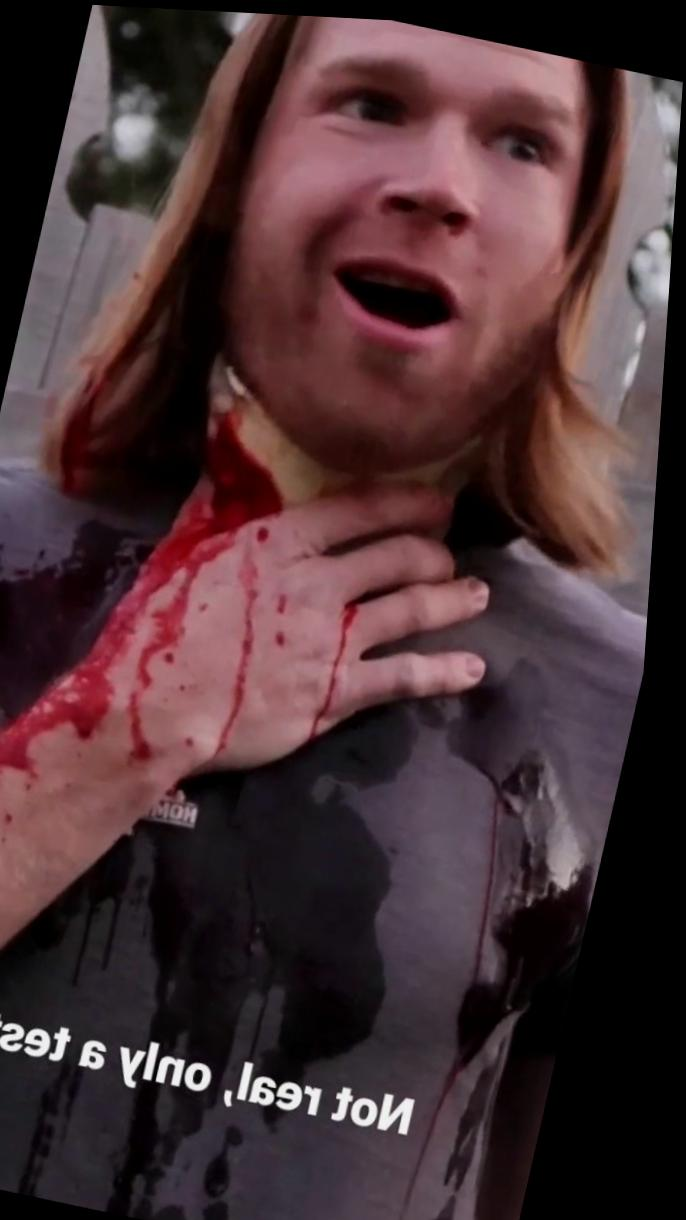Fire: (0, 418, 287, 773), (200, 556, 268, 771), (316, 598, 368, 739)
